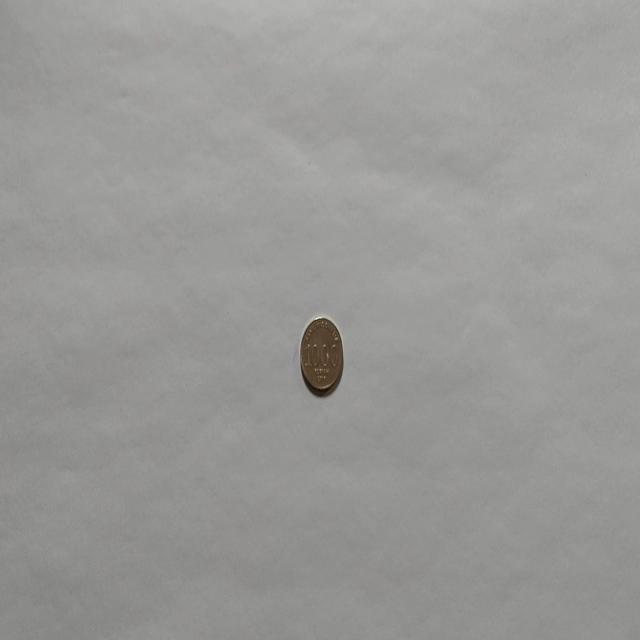seribu rupiah koin: (298, 314, 344, 396)
